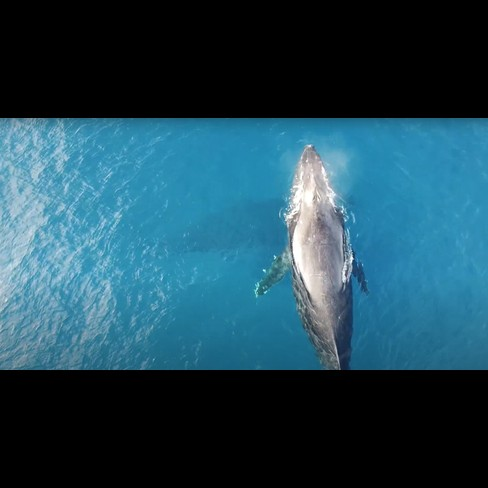hump: (255, 141, 374, 368)
